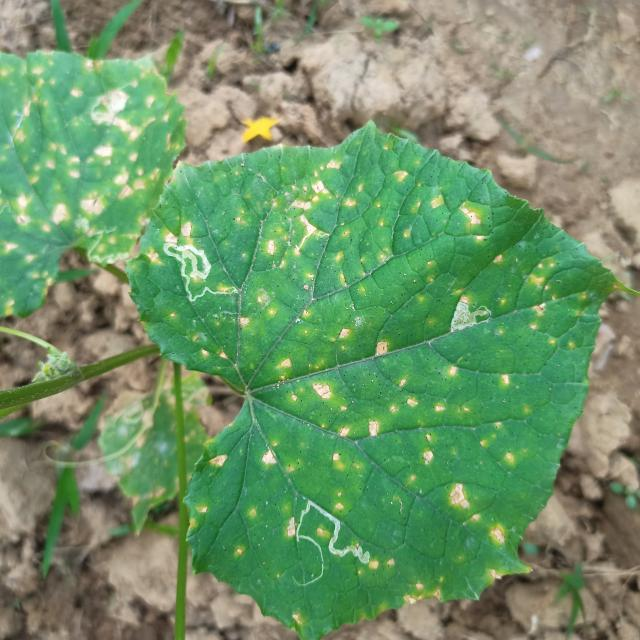disease_cucumber: (147, 155, 551, 589), (0, 56, 145, 297)
